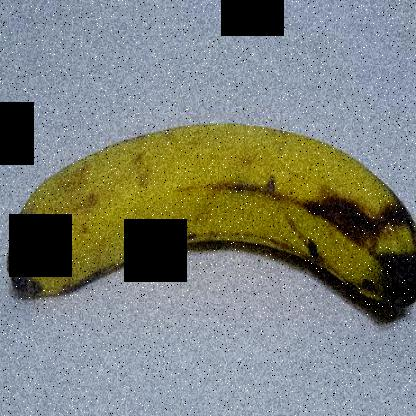ripe: (1, 101, 415, 351)
